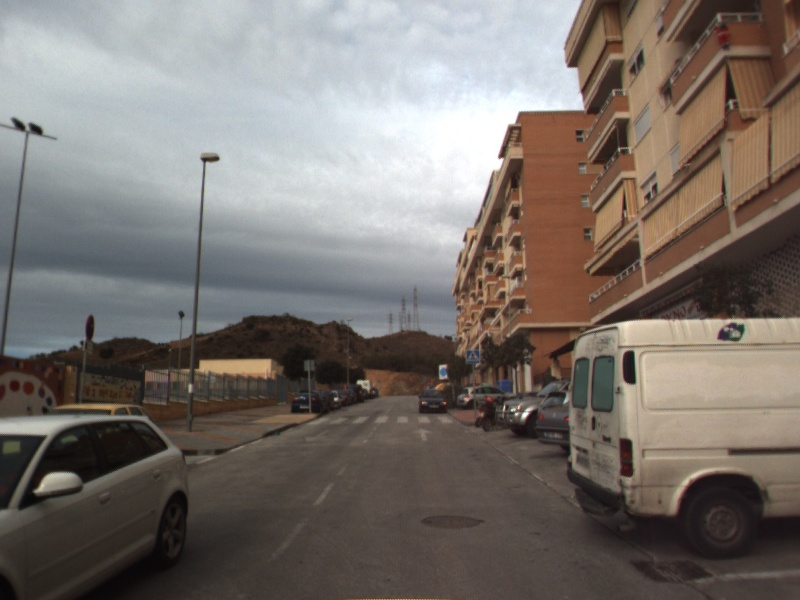STRAIGHT: (411, 426, 435, 443)
